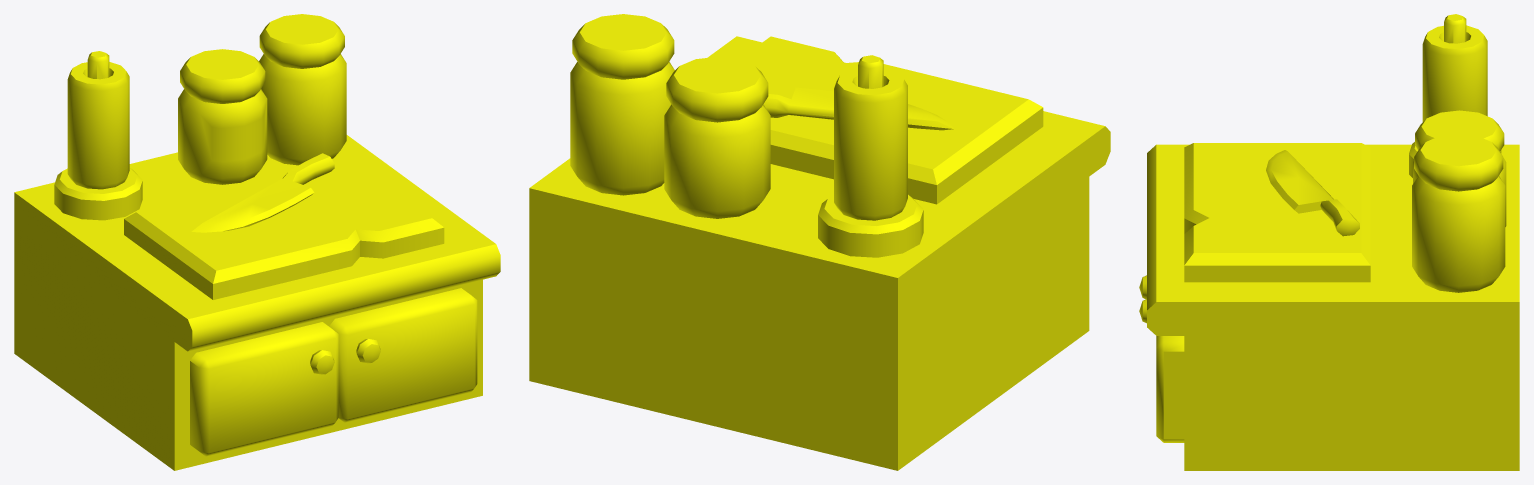
Rendered from kitchencounter_straight_decorated.gltf.
3 renders of one model, left to right at view 1: azimuth 30°, elevation 25°; view 2: azimuth 150°, elevation 25°; view 3: azimuth 270°, elevation 25°, orthographic. The views are drawn at different scales.
Parts seen in each view (by area): view 1: kitchencounter_straight_decorated; view 2: kitchencounter_straight_decorated; view 3: kitchencounter_straight_decorated.
Boxes of the visible parts, x1,y1,x2,y2 form: kitchencounter_straight_decorated: [14, 14, 500, 470]; kitchencounter_straight_decorated: [529, 14, 1110, 470]; kitchencounter_straight_decorated: [1139, 14, 1519, 470].
Bounding box in the file's own units: 2 × 1.91 × 2.04.
1 material, 1 textured.
